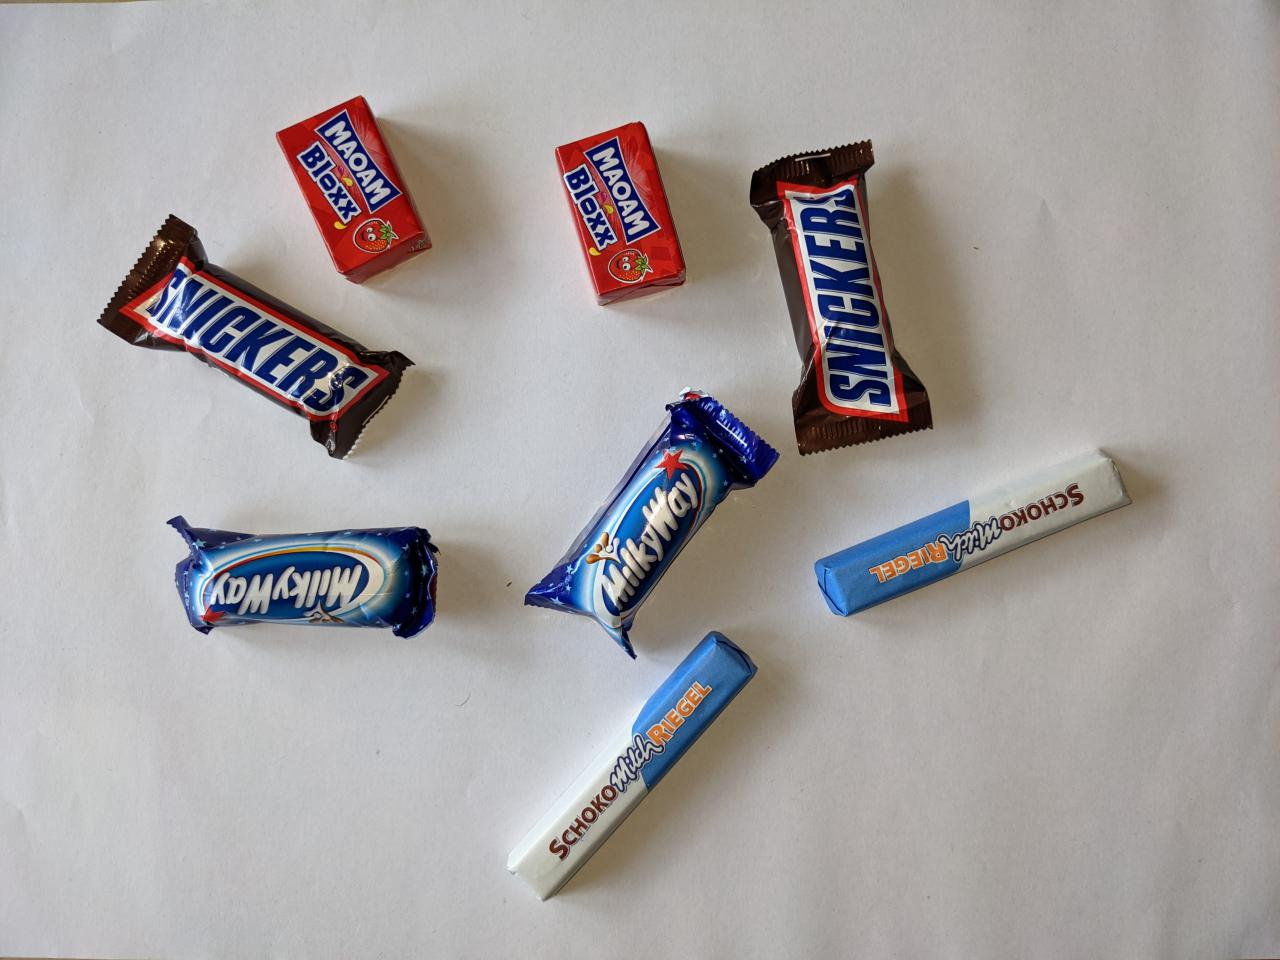MAOAM: (272, 89, 438, 286), (552, 117, 691, 312)
MilkyWay: (516, 382, 783, 665), (162, 513, 446, 643)
Schokoriegel: (502, 627, 764, 909), (808, 443, 1136, 621)
Snickers: (93, 207, 420, 466), (747, 137, 938, 460)
